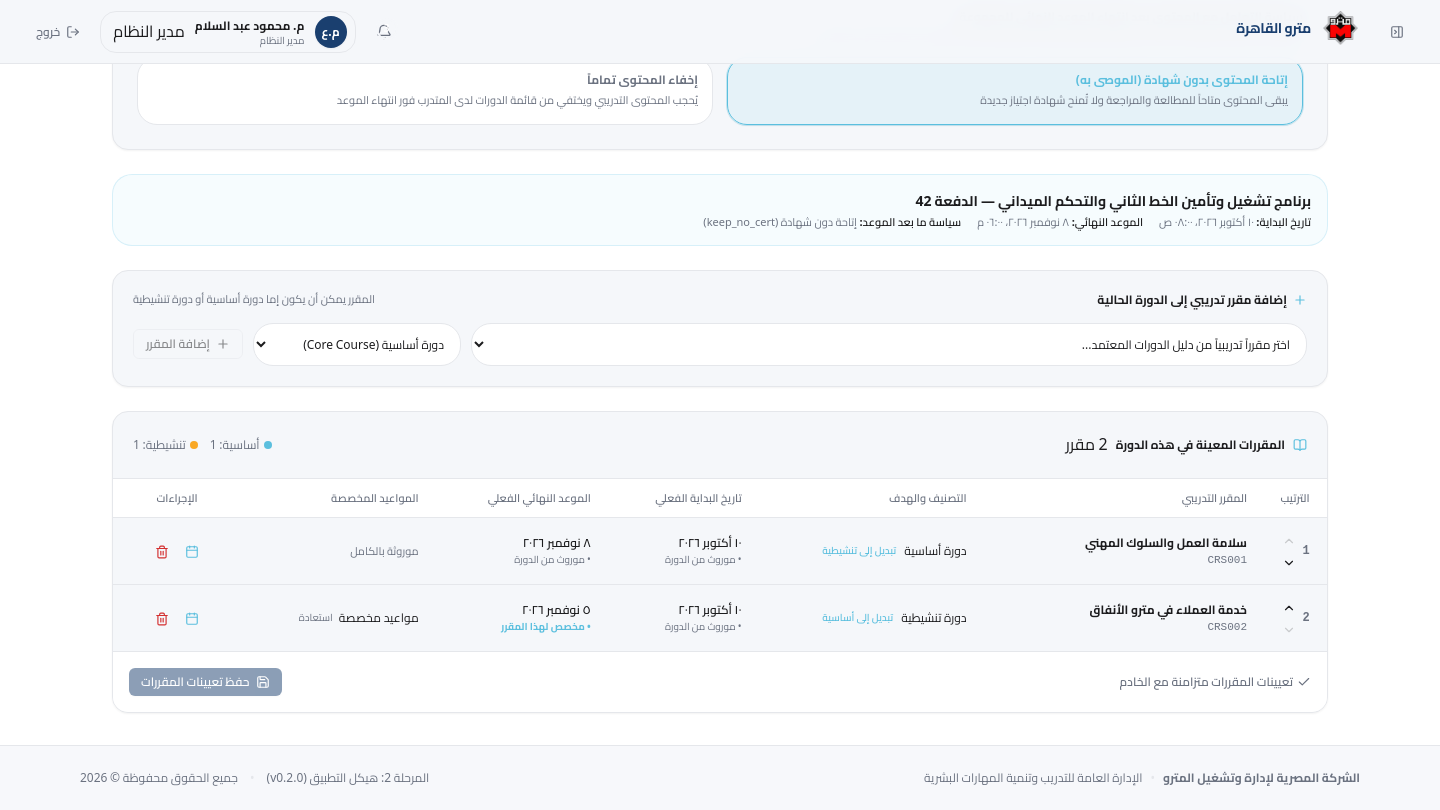
Increment 10 — Phase 5: Course Assignment, Renewal Schedules & Date Overrides › 3. Date Overrides & Independent Precedence Resolution › clears date overrides and falls back to inherited cycle values
The image size is (1440, 810).
(page scrolled)
Expected: the row with test id "course-row-CRS002" is shown, [113, 585, 1327, 651]
# Click clear override
Click the button with test id "clear-override-btn-CRS002" at (316, 618), box [299, 612, 333, 625]
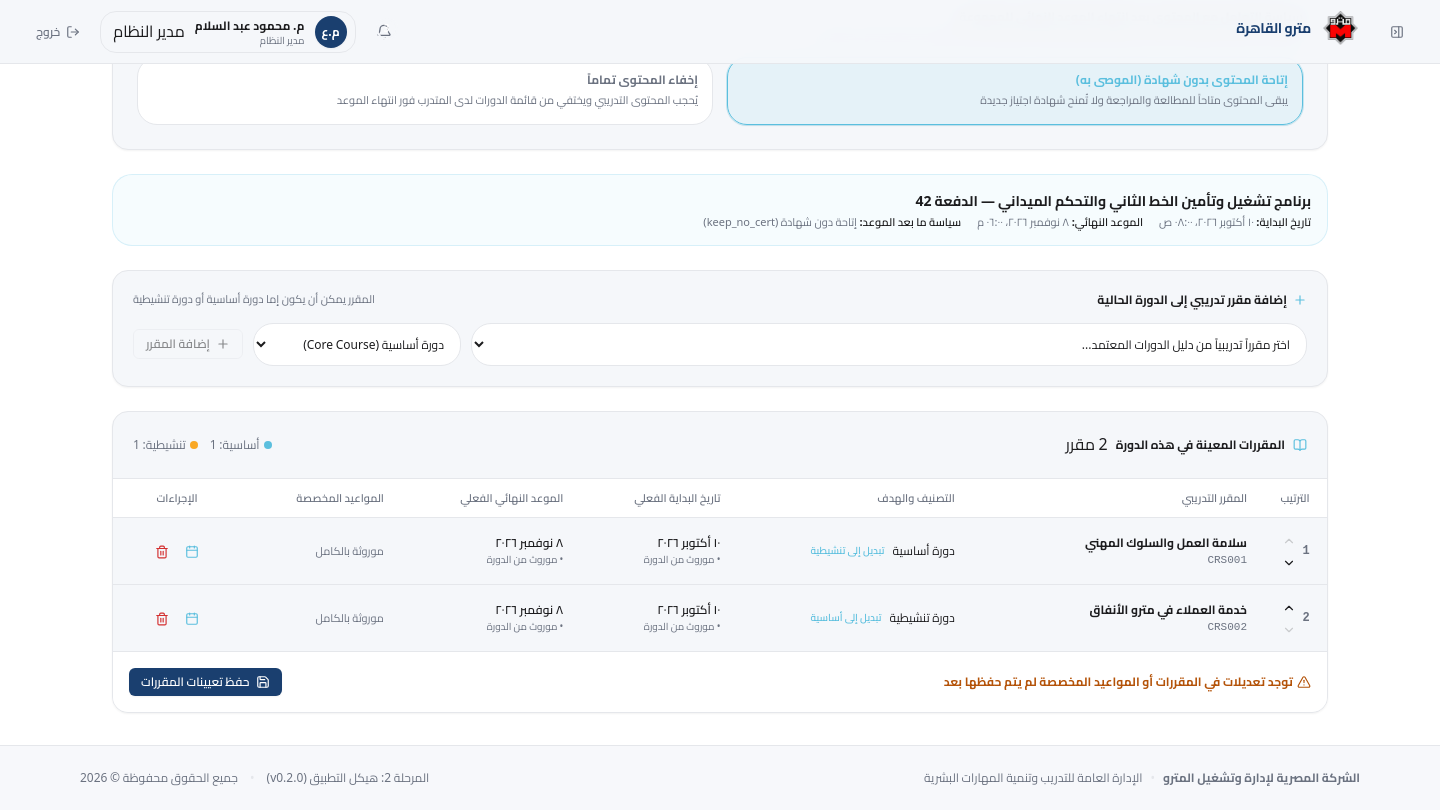
Now the row with test id "course-row-CRS002" shows "موروثة بالكامل", box [316, 608, 384, 628]
